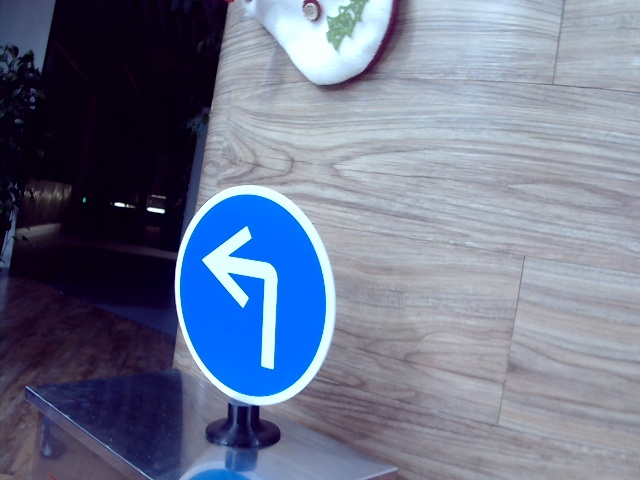turn_left: (204, 225, 292, 373)
